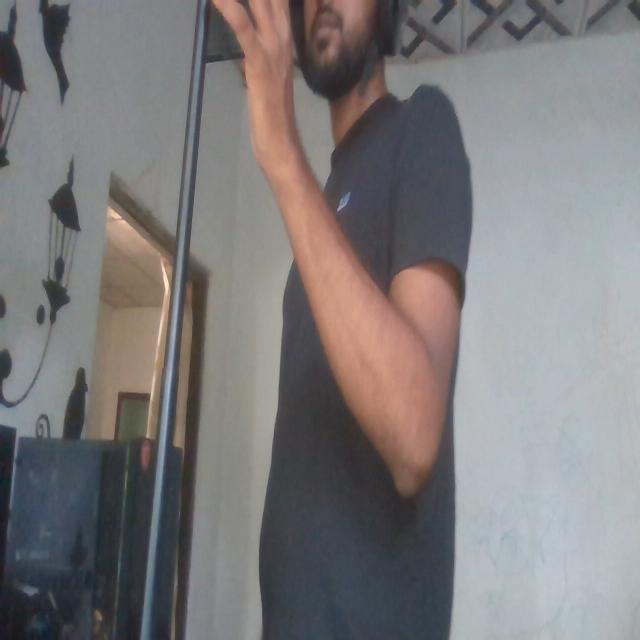Person: (222, 0, 476, 640)
